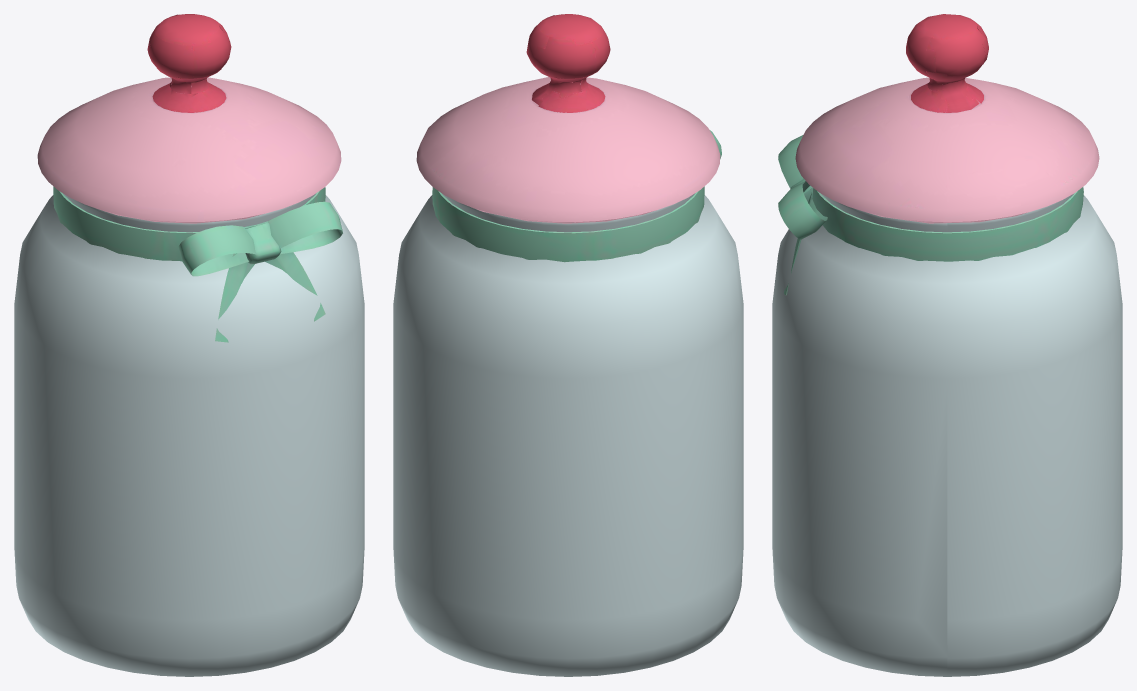
The model's file is tarro_caramelos.glb.
3 views of the same model, side by side, from view 1: azimuth 30°, elevation 25°; view 2: azimuth 150°, elevation 25°; view 3: azimuth 270°, elevation 25° (orthographic).
Parts seen in each view (by area): view 1: candy-jar_body; view 2: candy-jar_body; view 3: candy-jar_body.
Part boxes in pixels (left/top/right/bottom): candy-jar_body: left=14, top=14, right=364, bottom=676; candy-jar_body: left=393, top=14, right=743, bottom=676; candy-jar_body: left=772, top=14, right=1122, bottom=676.
Bounding box in the file's own units: 0.121 × 0.2259 × 0.121.
3 materials, 2 textured.
